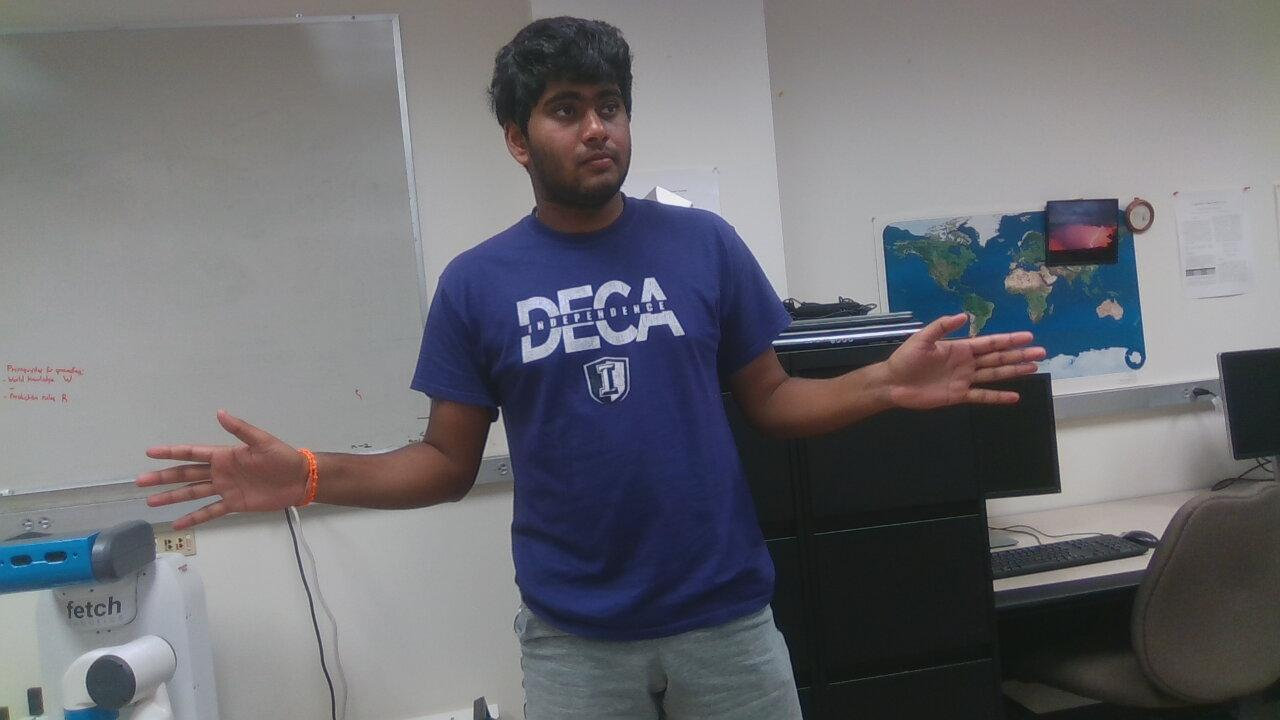hands: (128, 404, 324, 533), (886, 302, 1054, 428)
